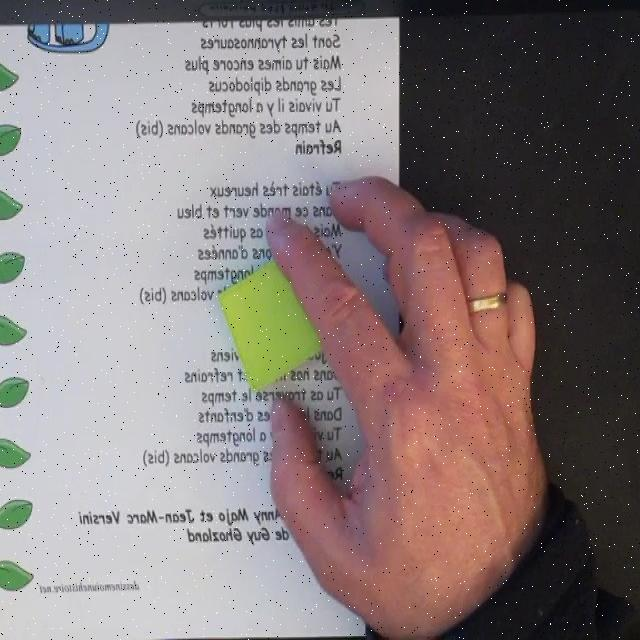square: (218, 251, 329, 392)
